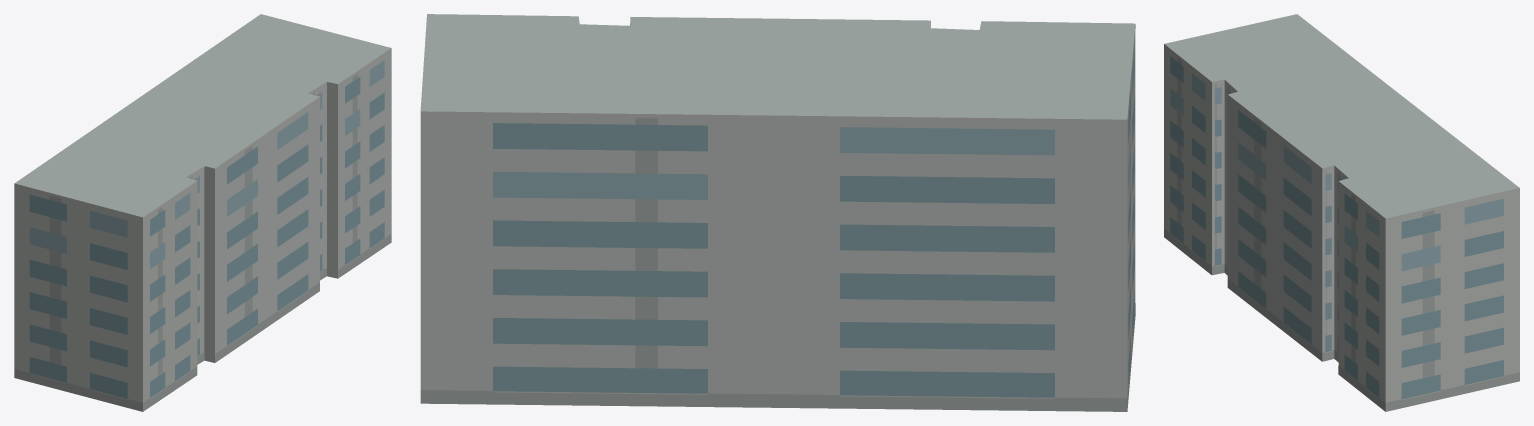
File: survey-upis-32972825.glb
The picture shows the model from 3 angles, left to right: view 1: azimuth 30°, elevation 25°; view 2: azimuth 150°, elevation 25°; view 3: azimuth 270°, elevation 25°; orthographic projection. The views are drawn at different scales.
Parts seen in each view (by area): view 1: survey-upis-32972825.tmp; view 2: survey-upis-32972825.tmp; view 3: survey-upis-32972825.tmp.
Part boxes in pixels (<box>): survey-upis-32972825.tmp: <box>14,14,391,411</box>; survey-upis-32972825.tmp: <box>420,14,1135,411</box>; survey-upis-32972825.tmp: <box>1164,14,1519,411</box>.
Size of the model in its own units: 39.02 by 17.2 by 28.68.
